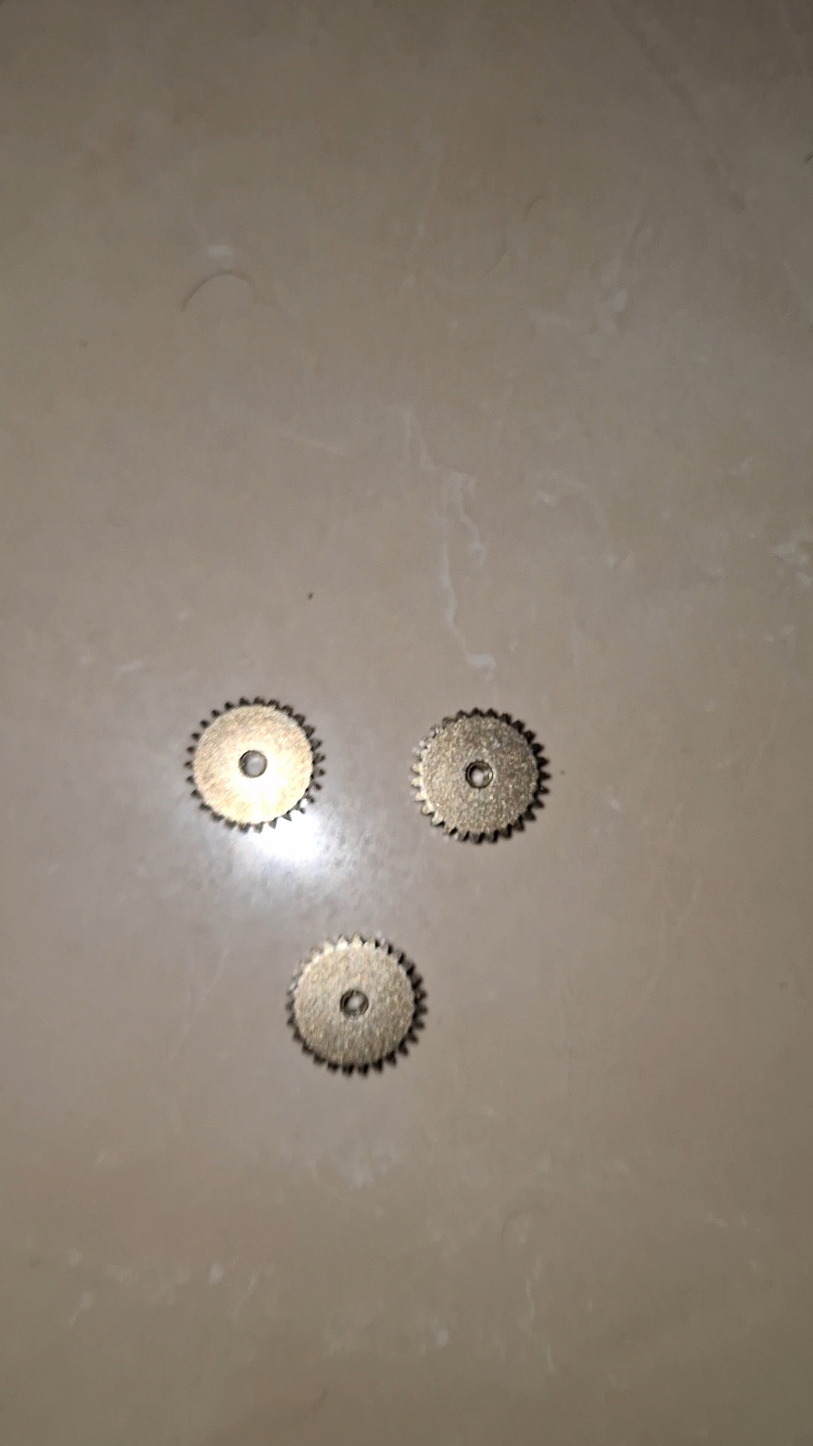spur gear: (287, 936, 426, 1074), (412, 709, 548, 841), (188, 699, 322, 831)
